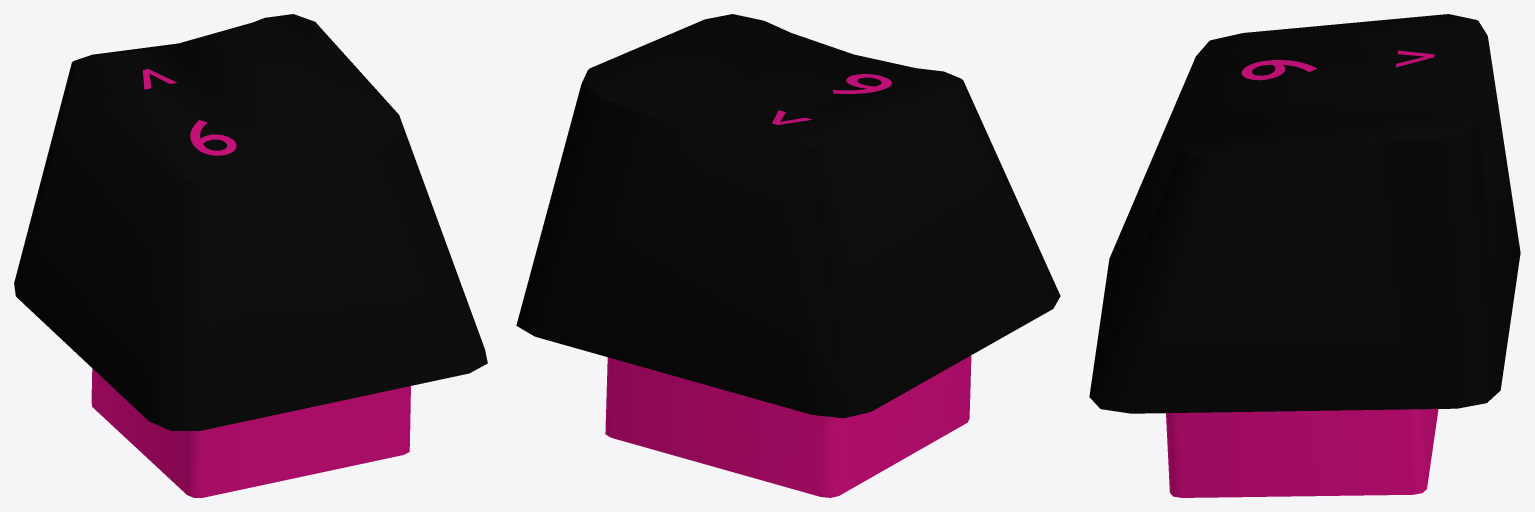
Rendered from key_6_1-Bib_qKKw.glb.
The picture shows the model from 3 angles, left to right: view 1: azimuth 30°, elevation 25°; view 2: azimuth 150°, elevation 25°; view 3: azimuth 270°, elevation 25°; orthographic projection. The views are drawn at different scales.
Parts seen in each view (by area): view 1: StudyShelf_755; view 2: StudyShelf_755; view 3: StudyShelf_755.
Part boxes in pixels (x1,y1,x2,y2): StudyShelf_755: [14, 14, 487, 497]; StudyShelf_755: [516, 14, 1060, 497]; StudyShelf_755: [1089, 14, 1520, 497].
Size of the model in its own units: 4.35 by 4.14 by 4.35.
